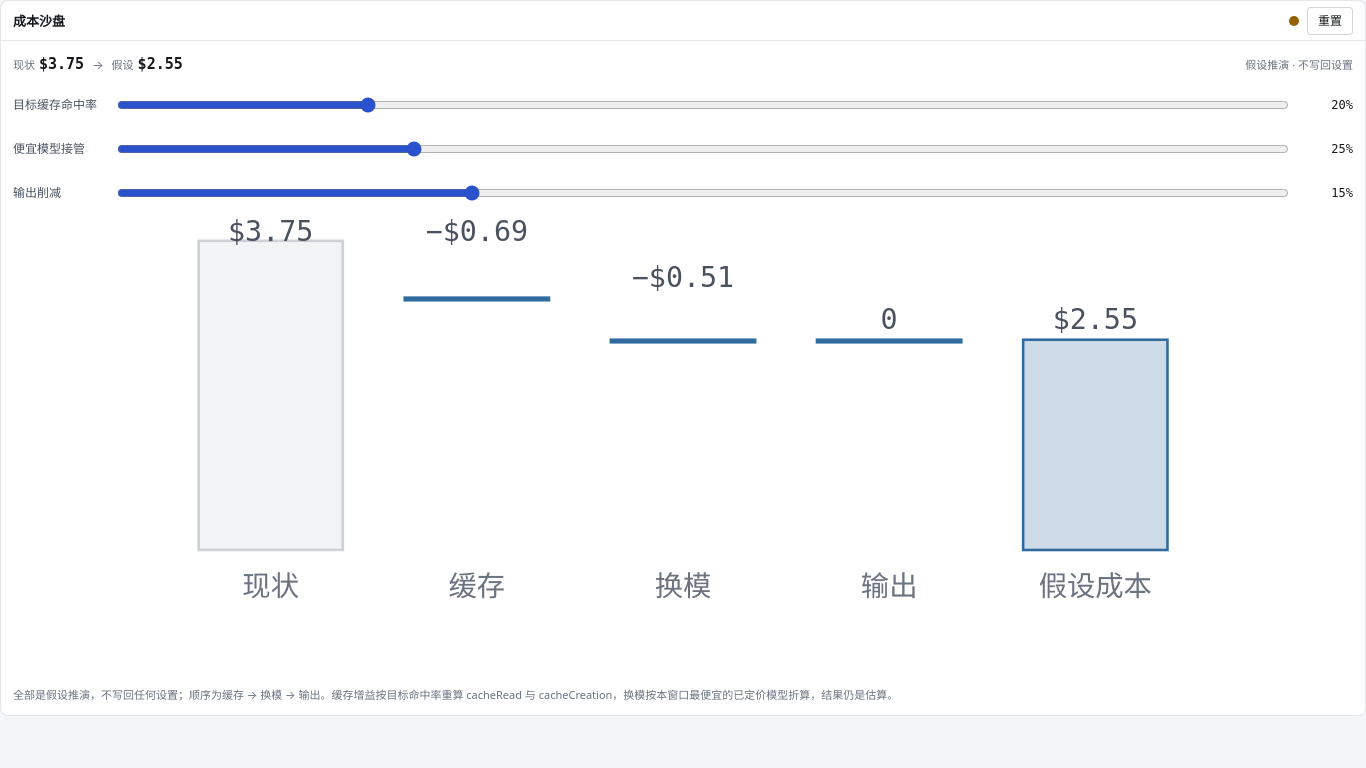
it: CostSandboxPanel › 推动缓存滑杆后假设读数实时变化；重置回到初始假设（不是归零）
This screenshot has width=1366, height=768.
Check: the element showing "现状 $3.75 → 假设 $2.55 假设推演 · 不写回设置" is shown, box [13,53,1353,75]
Set the slider labelled "目标缓存命中率" to "50". click: (733, 105)
box: [117,97,1289,113]
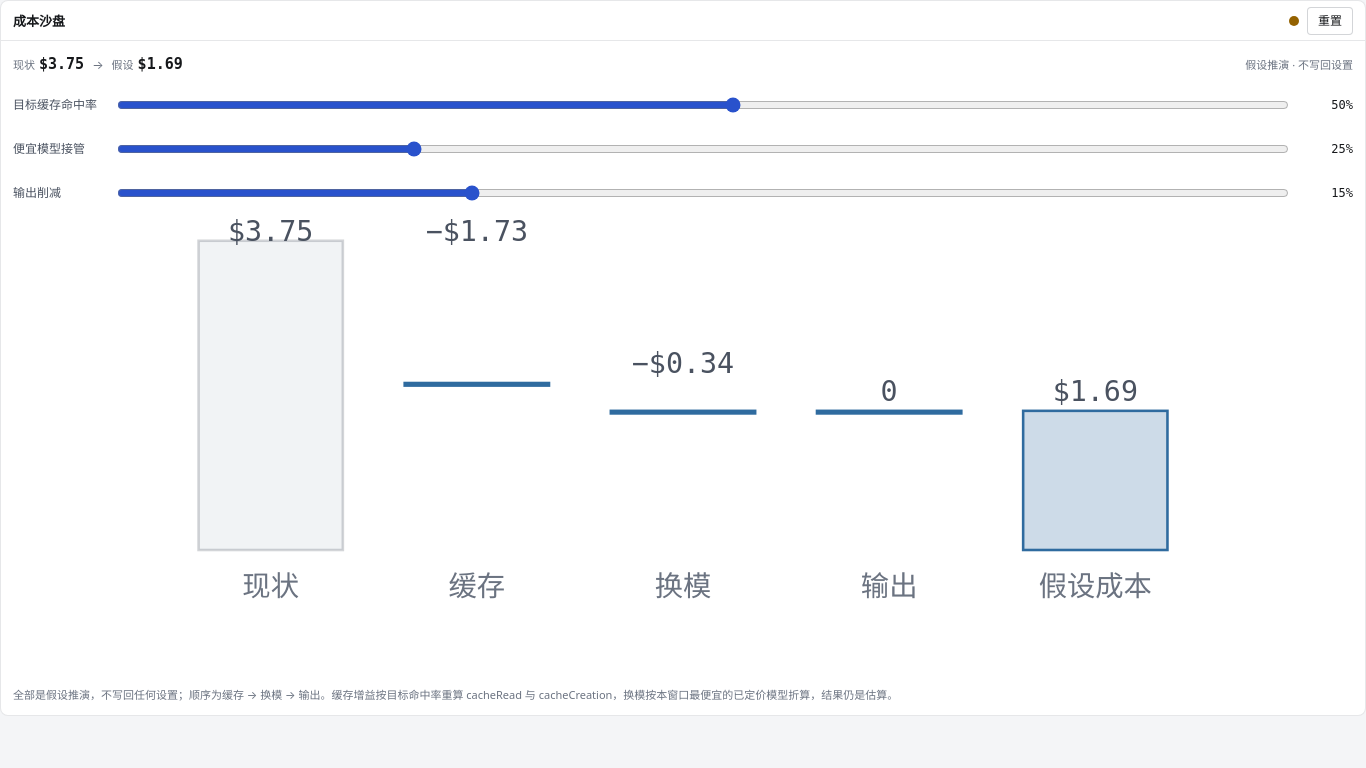
Check: the element showing "现状 $3.75 → 假设 $1.69 假设推演 · 不写回设置" is shown, box [13,53,1353,75]
Click the button "重置". click: (1330, 20)
box: [1307,6,1353,34]
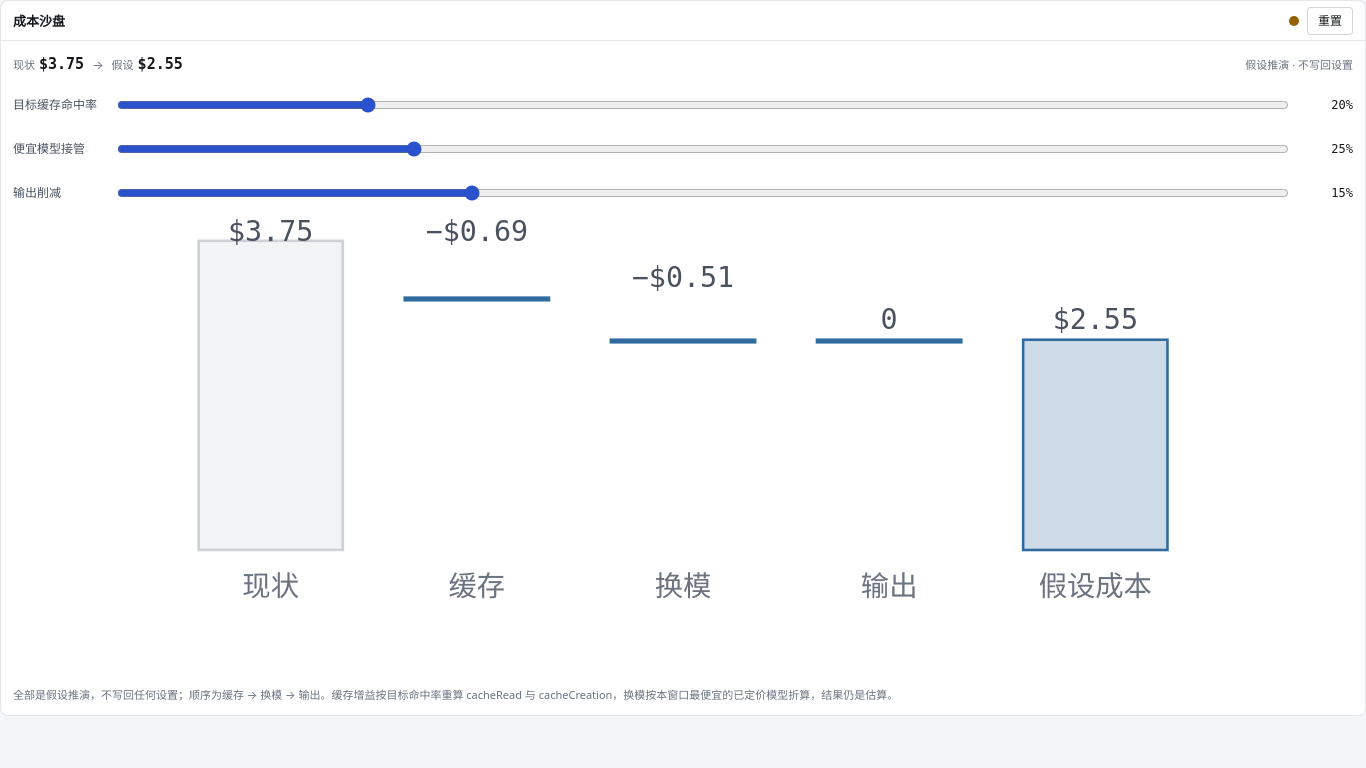
Check: the element showing "现状 $3.75 → 假设 $2.55 假设推演 · 不写回设置" is shown, box [13,53,1353,75]
Check: the slider labelled "目标缓存命中率" holds "20", box [117,97,1289,113]
